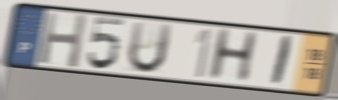1: (193, 27, 214, 80)
5: (85, 15, 127, 72)
H: (36, 10, 89, 71), (205, 27, 262, 83)
I: (268, 34, 296, 89)
U: (126, 19, 175, 76)
